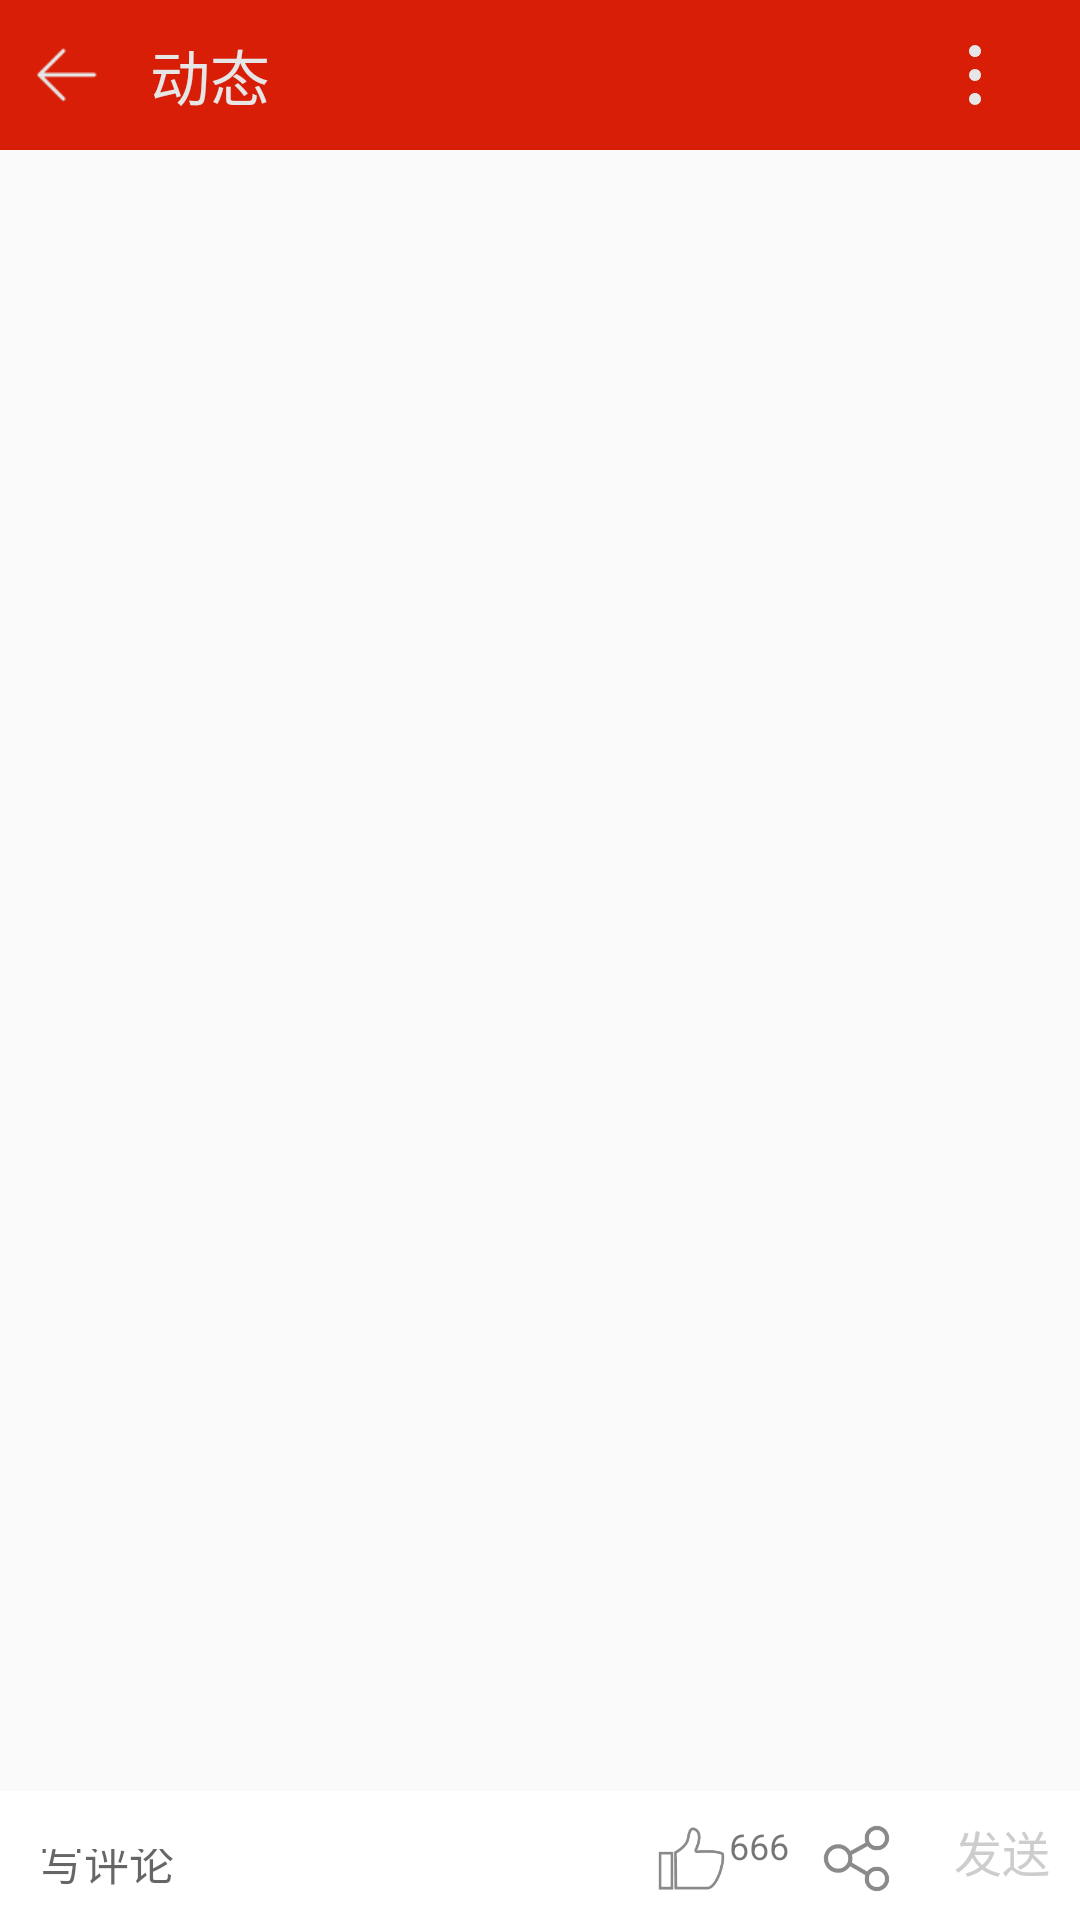

Where icons sit on this 1080w x 1920h app screen, as (x1, y1, x2, y2):
back: (37, 48, 97, 102)
detail menu: (969, 45, 981, 105)
share: (824, 1826, 889, 1891)
zan: (659, 1827, 724, 1890)
